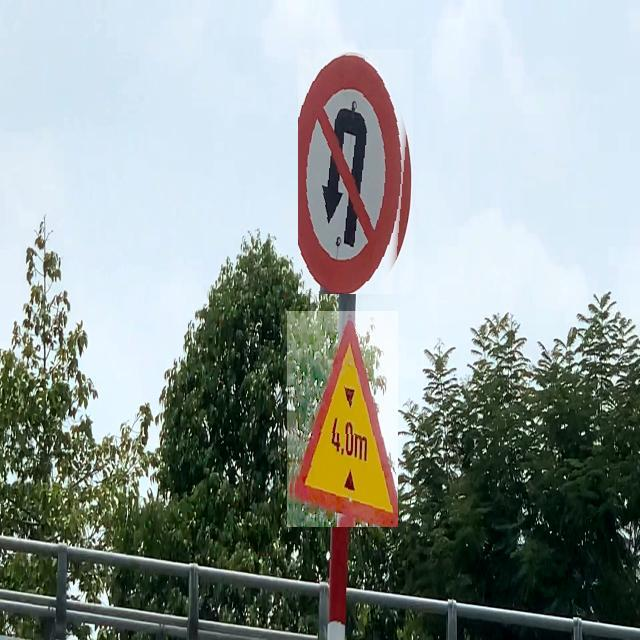P-124a: (298, 49, 413, 294)
S-509a: (287, 311, 398, 527)
